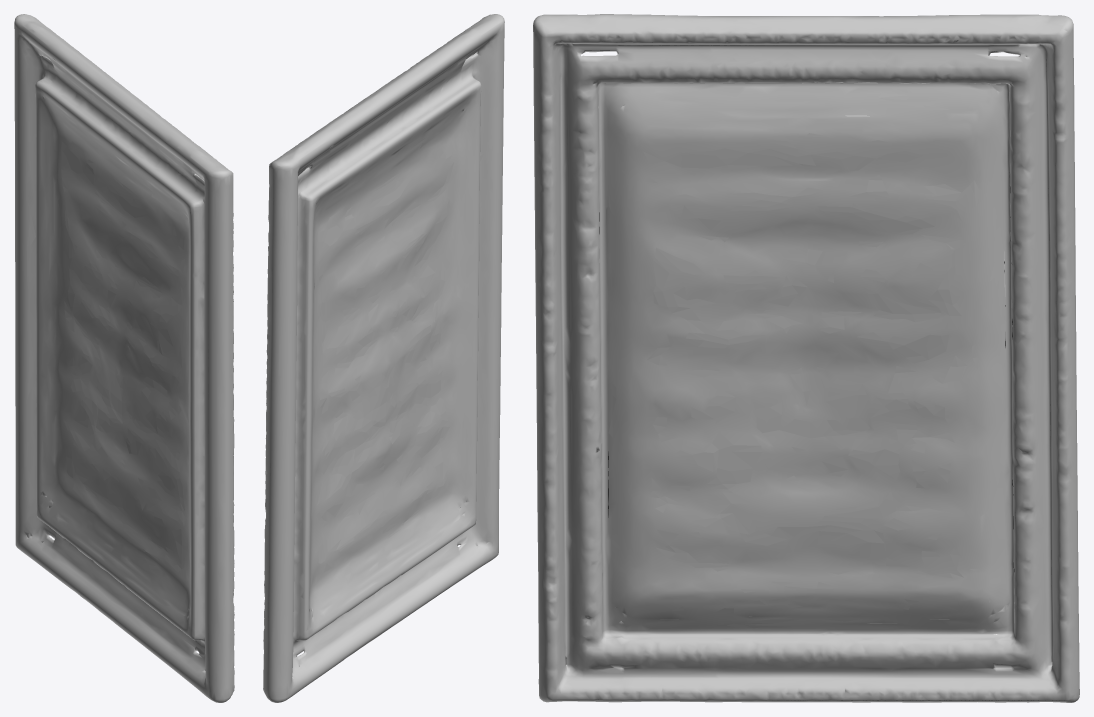
Rendered from cont25.obj.
3 renders of one model, left to right at view 1: azimuth 30°, elevation 25°; view 2: azimuth 150°, elevation 25°; view 3: azimuth 270°, elevation 25°, orthographic. The views are drawn at different scales.
Parts seen in each view (by area): view 1: tripo_node_7710de3c-0a03-4506-86dc-1e5036f6c294.015; view 2: tripo_node_7710de3c-0a03-4506-86dc-1e5036f6c294.015; view 3: tripo_node_7710de3c-0a03-4506-86dc-1e5036f6c294.015.
Boxes of the visible parts, box(x1,y1,x2,y2) form: tripo_node_7710de3c-0a03-4506-86dc-1e5036f6c294.015: box(14, 14, 234, 702); tripo_node_7710de3c-0a03-4506-86dc-1e5036f6c294.015: box(263, 14, 504, 702); tripo_node_7710de3c-0a03-4506-86dc-1e5036f6c294.015: box(533, 14, 1079, 702).
Size of the model in its own units: 0.2014 by 3.01 by 2.18.
